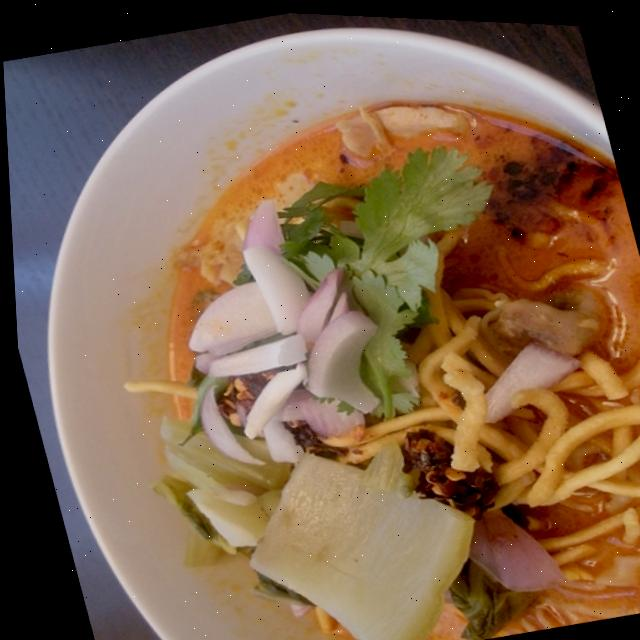面条主食: (85, 39, 640, 640)
